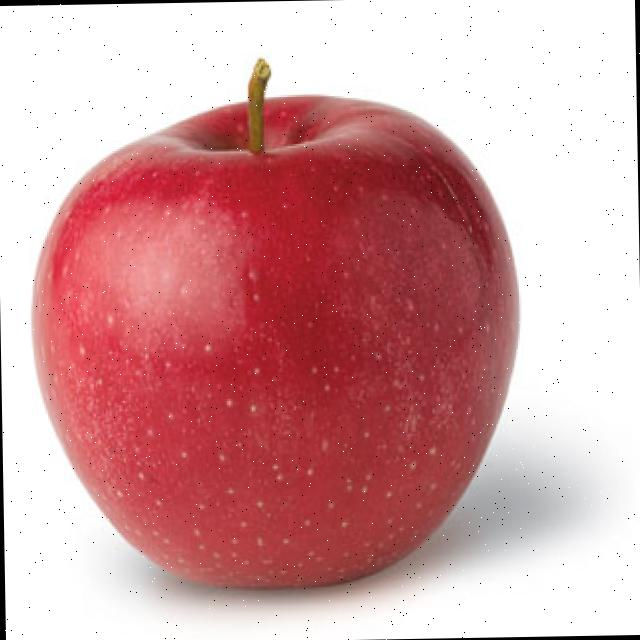Apel: (24, 52, 526, 594)
